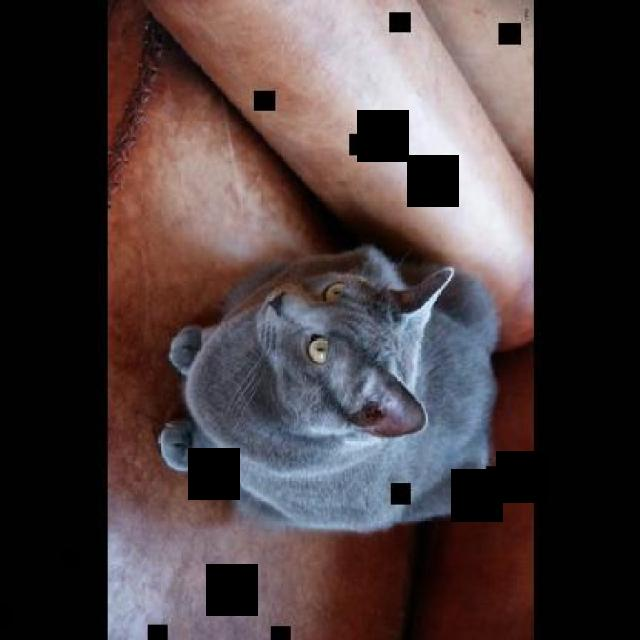unauthorized: (155, 241, 500, 534)
